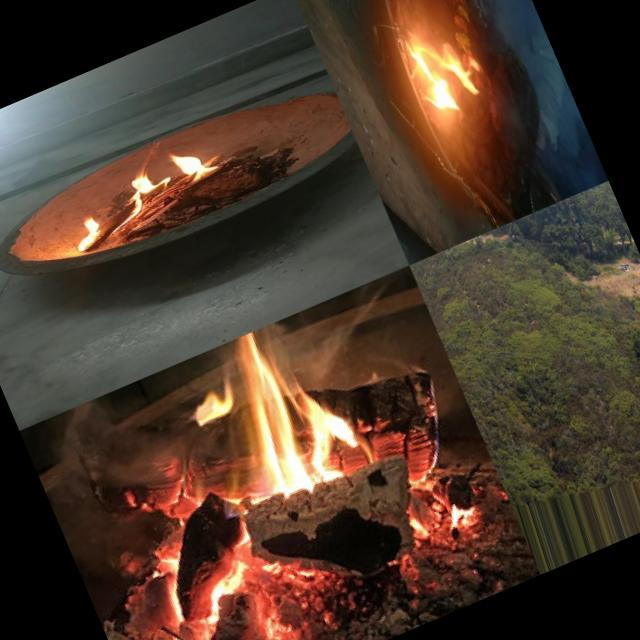fire: (84, 300, 428, 640), (52, 133, 240, 259), (393, 11, 498, 126)
smoke: (444, 0, 607, 200)
